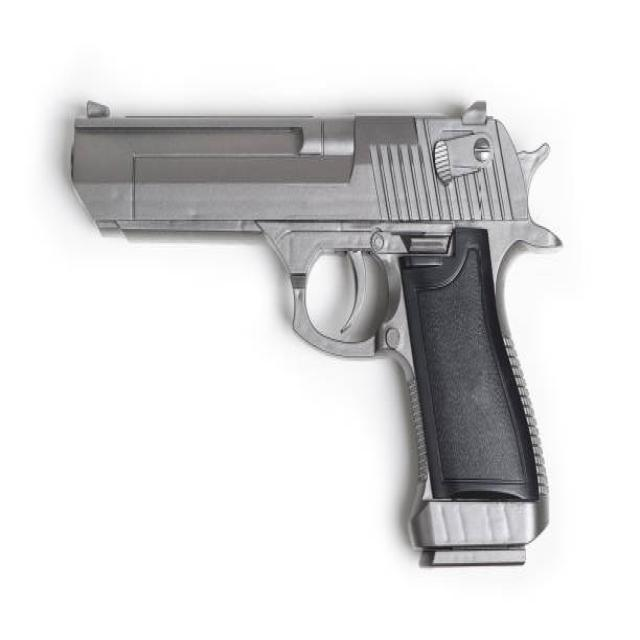pistol: (59, 84, 575, 573)
